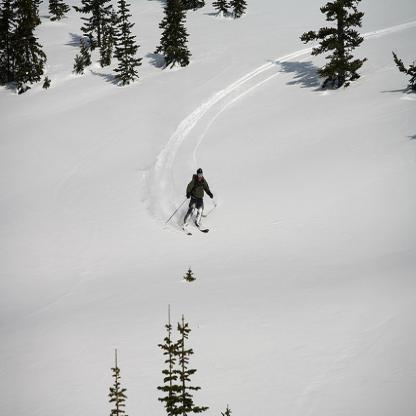backpack: (192, 174, 197, 180)
